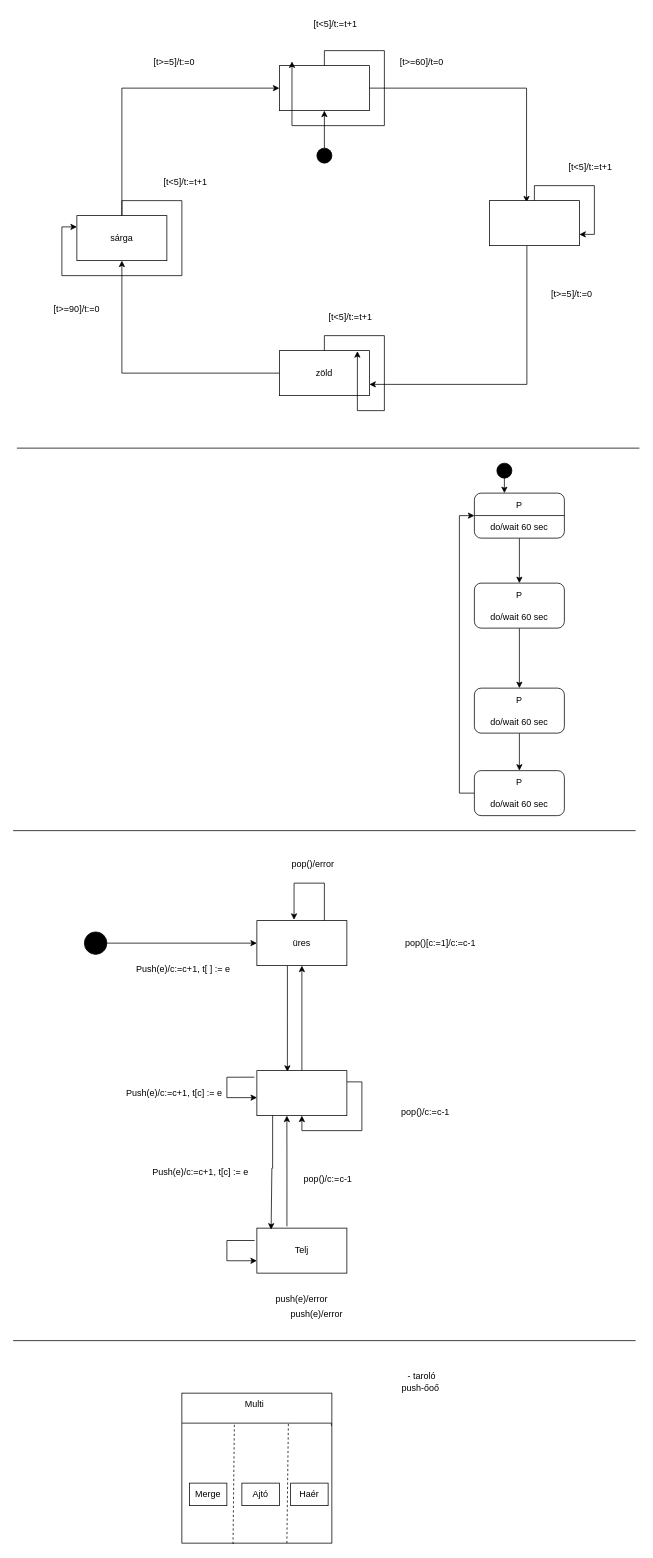
Some shapes in this 653 by 1558 pixel diagram are drawn without their labels. The shapes that lost their labels are listed below. From the top down, each one's centre as x and y in pixels, then its label:
At point 324,88: "Piros".
At point 534,223: "Pirs".
At point 301,1093: "kortes".
